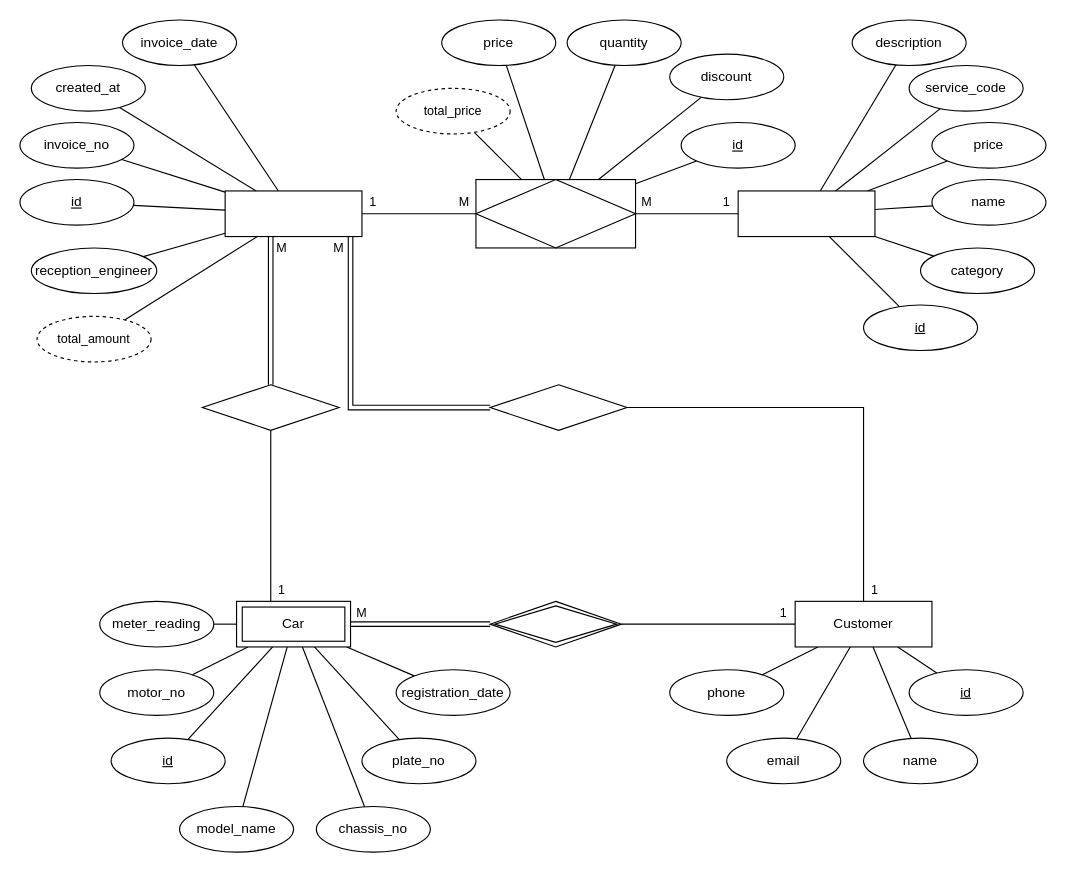
The diagram is 1066 pixels wide and 872 high, and some of its shapes have lost their labels. Each missing label, with the centre of its shape:
"for" goes at point 558,407.
"has" goes at point 555,623.
"Invoice" goes at point 293,213.
"Invoice_item" goes at point 555,213.
"maintained" goes at point 270,407.
"Service" goes at point 806,213.
